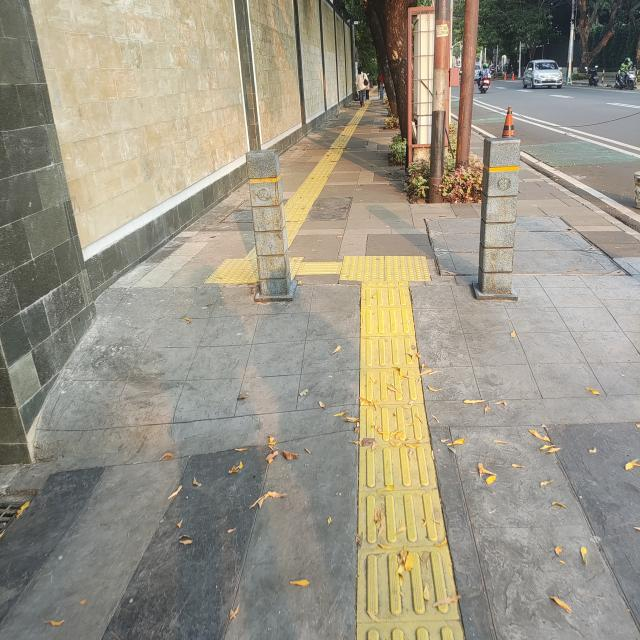lurus: (345, 295, 469, 640), (280, 104, 356, 236)
